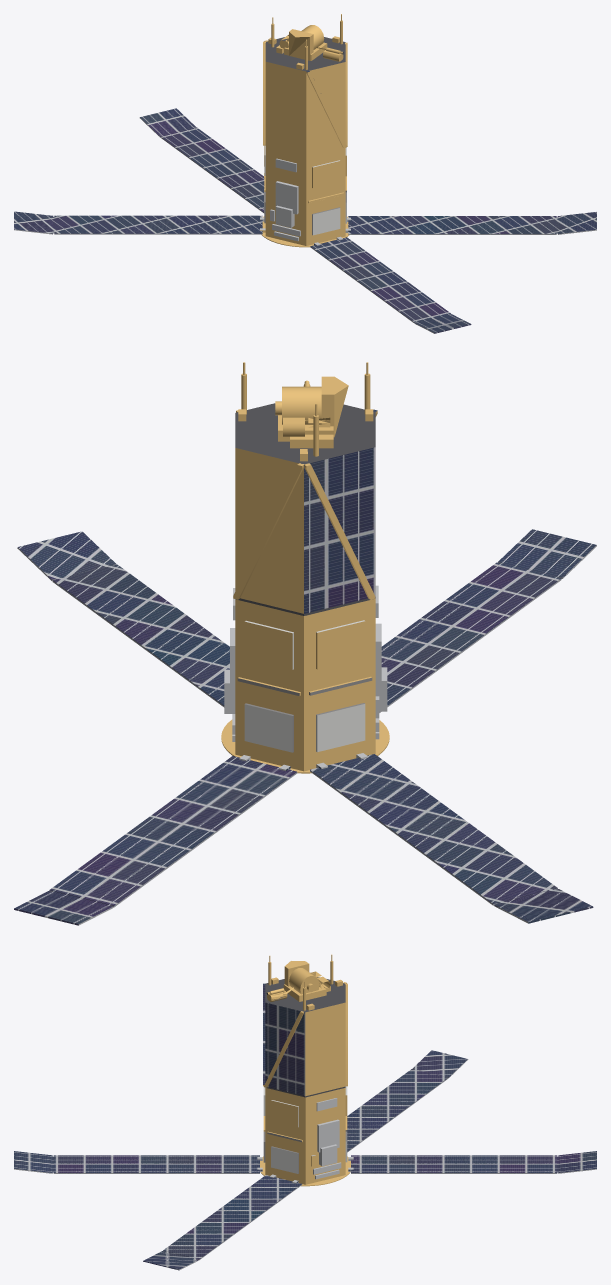
Rendered from seastar.glb.
The picture shows the model from 3 angles, top to bottom: view 1: azimuth 30°, elevation 25°; view 2: azimuth 150°, elevation 25°; view 3: azimuth 270°, elevation 25°; orthographic projection. The views are drawn at different scales.
Visible parts, largest first — view 1: Fake; view 2: Fake; view 3: Fake.
Part boxes in pixels (x1,y1,x2,y2): Fake: [14, 14, 596, 333]; Fake: [14, 362, 596, 925]; Fake: [14, 954, 596, 1270].
Bounding box in the file's own units: 2.94 × 1.26 × 3.3.
Materials: 6 (1 with a texture image).
